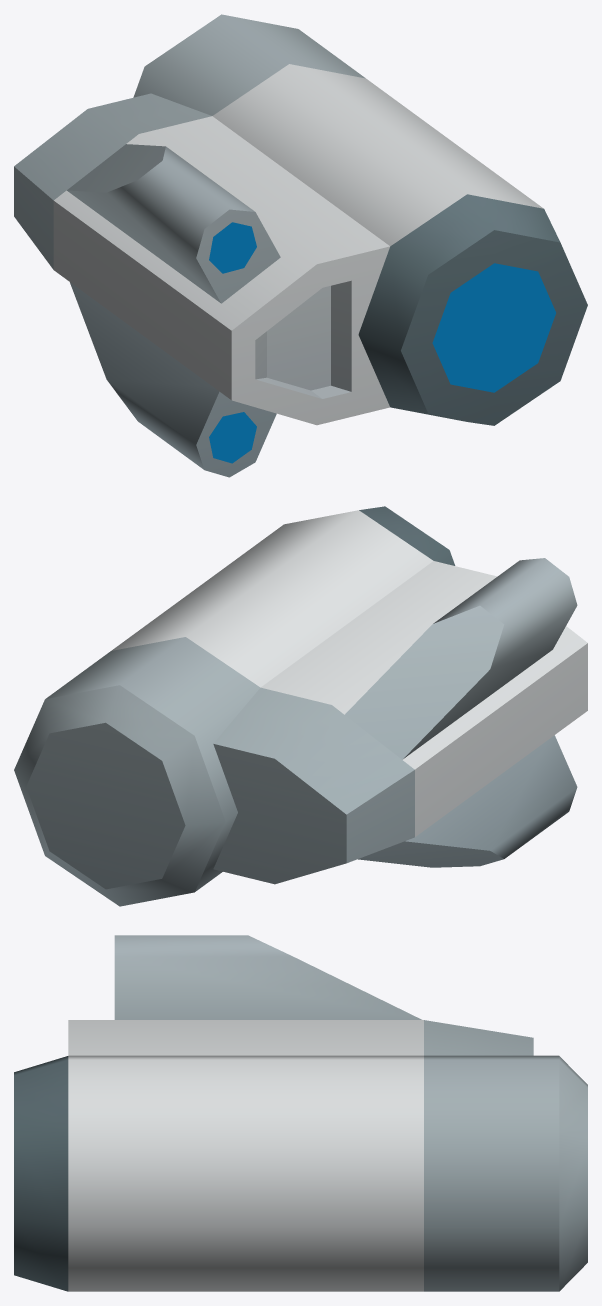
File: Cam_003.fbx
3 views of the same model, one above another, from view 1: azimuth 30°, elevation 25°; view 2: azimuth 150°, elevation 25°; view 3: azimuth 270°, elevation 25° (orthographic). The views are drawn at different scales.
Parts seen in each view (by area): view 1: Cam_003; view 2: Cam_003; view 3: Cam_003.
Part boxes in pixels (bbox=[...]): Cam_003: bbox=[14, 14, 587, 477]; Cam_003: bbox=[14, 506, 587, 906]; Cam_003: bbox=[14, 935, 587, 1291].
Bounding box in the file's own units: 24.79 × 34.56 × 17.79.
